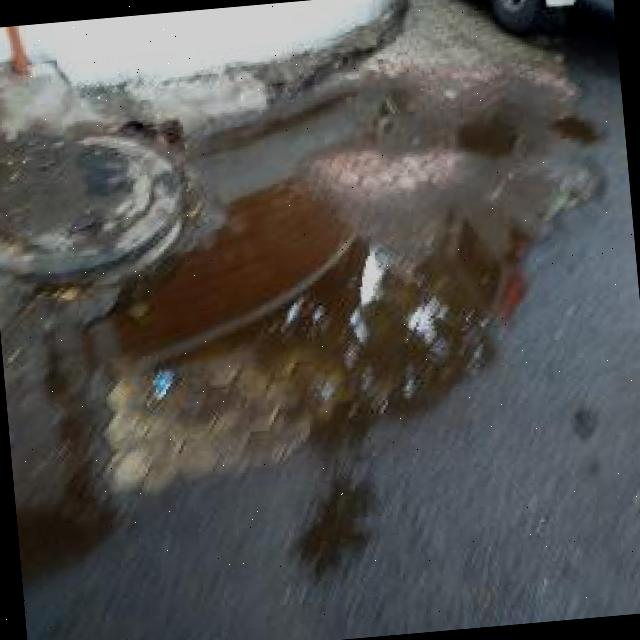waterlogging: (91, 158, 528, 501)
